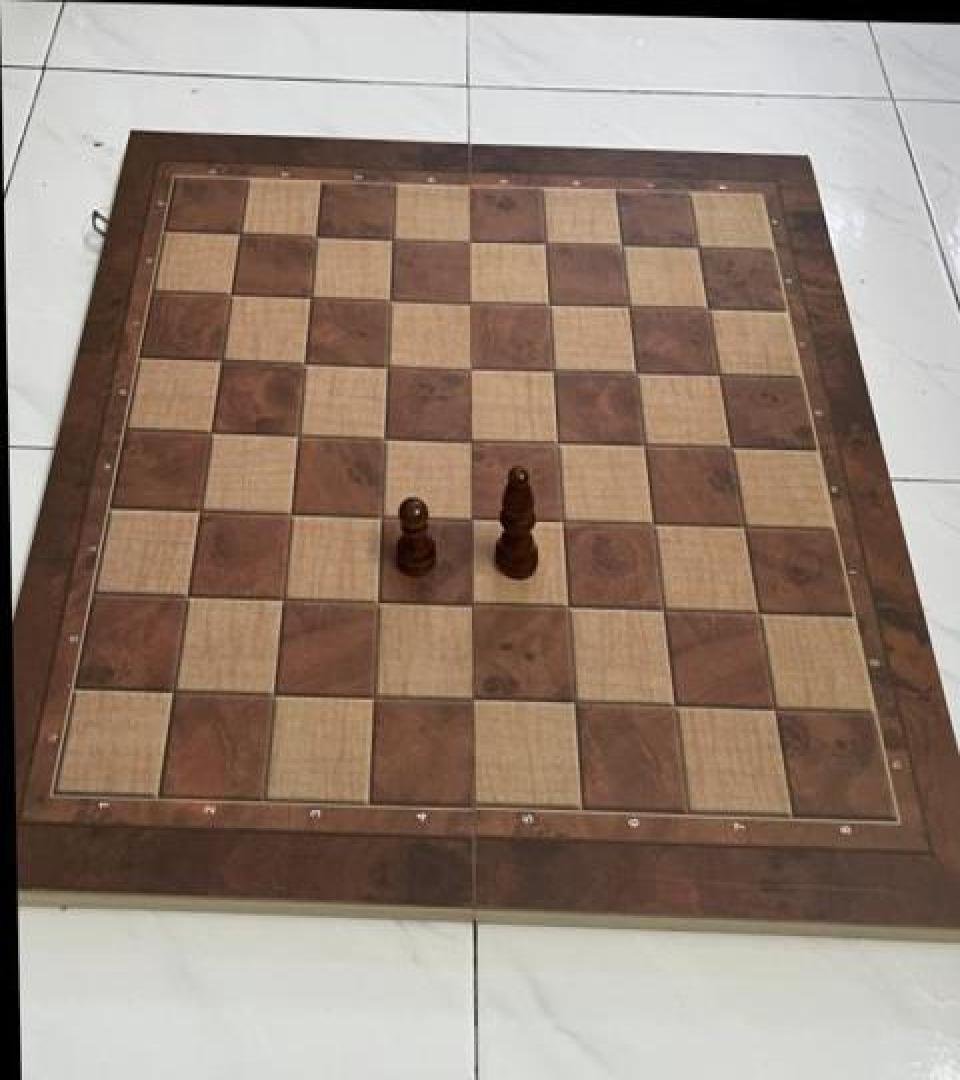xcorner: (678, 227, 714, 268), (601, 226, 637, 267), (372, 219, 408, 260), (295, 217, 331, 258), (688, 289, 724, 330), (449, 282, 485, 323), (369, 280, 405, 321), (616, 353, 652, 394), (284, 344, 320, 385), (624, 426, 660, 467), (537, 424, 573, 465), (277, 416, 313, 457), (633, 506, 669, 547), (361, 497, 397, 538), (738, 596, 774, 637), (452, 586, 488, 627), (168, 577, 204, 618), (553, 685, 589, 726), (354, 678, 390, 719), (524, 224, 560, 264), (448, 222, 484, 262), (219, 215, 255, 255), (608, 287, 644, 327), (528, 285, 564, 325), (290, 278, 326, 318), (210, 276, 246, 316), (699, 357, 735, 397), (532, 351, 568, 391), (449, 349, 485, 389), (367, 347, 403, 387), (201, 341, 237, 381), (711, 429, 747, 469), (450, 421, 486, 461), (364, 419, 400, 459), (191, 413, 227, 453), (724, 509, 760, 549), (542, 503, 578, 543), (451, 500, 487, 540), (270, 494, 306, 534), (180, 492, 216, 532), (643, 593, 679, 633), (547, 590, 583, 630), (357, 584, 393, 624), (263, 581, 299, 621), (754, 692, 790, 732), (654, 689, 690, 729), (453, 682, 489, 722), (254, 675, 290, 715), (155, 672, 191, 712)
